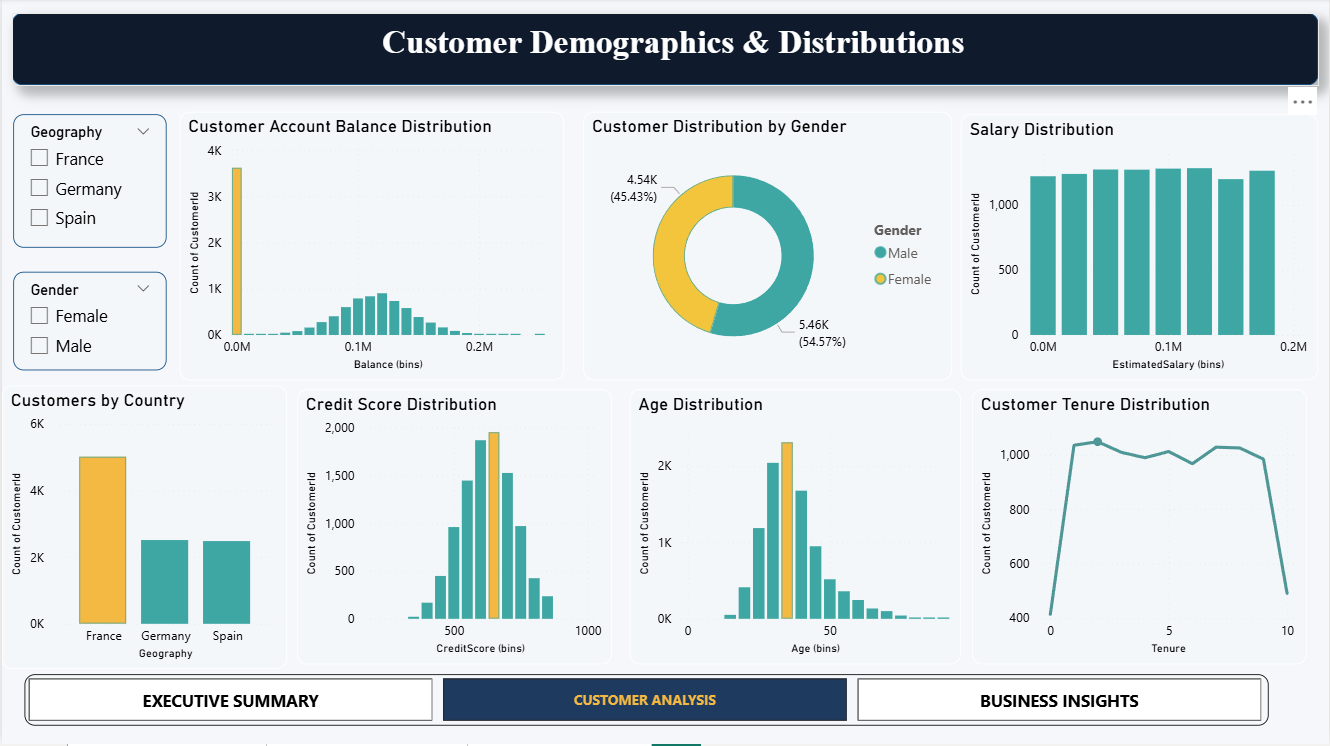

Layout of this report page (visuals, bound fields, positions):
{"tool":"powerbi","page":{"name":"CUSTOMER ANALYSIS","canvas":[1280,720],"ordinal":1},"visuals":[{"type":"textbox","box":[9.8,14.7,1260.7,69.7],"z":0},{"type":"clusteredColumnChart","title":"Customers by Country","fields":{"Category":["Bank_Churn.Geography"],"Y":["CountNonNull(Bank_Churn.CustomerId)"]},"box":[0,374,275.1,273.9],"z":1000},{"type":"donutChart","title":" Customer Distribution by Gender","fields":{"Category":["Bank_Churn.Gender"],"Y":["CountNonNull(Bank_Churn.CustomerId)"]},"box":[561,109.8,355.9,259.4],"z":2000},{"type":"columnChart","title":"Age Distribution","fields":{"Category":["Bank_Churn.Age (bins)"],"Y":["CountNonNull(Bank_Churn.CustomerId)"]},"box":[605.6,377.6,319.7,265.4],"z":3000},{"type":"columnChart","title":"Credit Score Distribution","fields":{"Category":["Bank_Churn.CreditScore (bins)"],"Y":["CountNonNull(Bank_Churn.CustomerId)"]},"box":[284.7,377.6,304,265.4],"z":4000},{"type":"columnChart","title":"Customer Account Balance Distribution","fields":{"Y":["CountNonNull(Bank_Churn.CustomerId)"],"Category":["Bank_Churn.Balance (bins)"]},"box":[171.3,109.8,371.6,259.4],"z":5000},{"type":"columnChart","title":"Salary Distribution","fields":{"Category":["Bank_Churn.EstimatedSalary (bins)"],"Y":["CountNonNull(Bank_Churn.CustomerId)"]},"box":[925.3,112.2,345,257],"z":6000},{"type":"lineChart","title":"Customer Tenure Distribution","fields":{"Category":["Bank_Churn.Tenure"],"Y":["CountNonNull(Bank_Churn.CustomerId)"]},"box":[936.2,377.6,323.3,265.4],"z":7000},{"type":"slicer","fields":{"Values":["Bank_Churn.Geography"]},"box":[10.9,112.2,148.4,129.1],"z":8000},{"type":"slicer","fields":{"Values":["Bank_Churn.Gender"]},"box":[10.9,264.2,148.4,95.3],"z":9000},{"type":"pageNavigator","box":[21.7,652.7,1200.4,49.5],"z":11000}]}

Visuals, with their boxes in screenshot pixels (x1, y1, x2, y2), scaled from the page's 1280x720 canvas onto the 1330x746 screenshot:
textbox: BBox(10, 15, 1320, 87)
"Customers by Country" clusteredColumnChart: BBox(0, 388, 286, 671)
" Customer Distribution by Gender" donutChart: BBox(583, 114, 953, 383)
"Age Distribution" columnChart: BBox(629, 391, 961, 666)
"Credit Score Distribution" columnChart: BBox(296, 391, 612, 666)
"Customer Account Balance Distribution" columnChart: BBox(178, 114, 564, 383)
"Salary Distribution" columnChart: BBox(961, 116, 1320, 383)
"Customer Tenure Distribution" lineChart: BBox(973, 391, 1309, 666)
slicer - Bank_Churn.Geography: BBox(11, 116, 166, 250)
slicer - Bank_Churn.Gender: BBox(11, 274, 166, 372)
pageNavigator: BBox(23, 676, 1270, 728)
